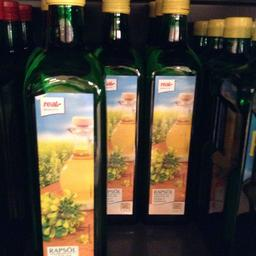oil: (22, 0, 105, 255), (142, 0, 204, 221), (93, 0, 144, 222)
